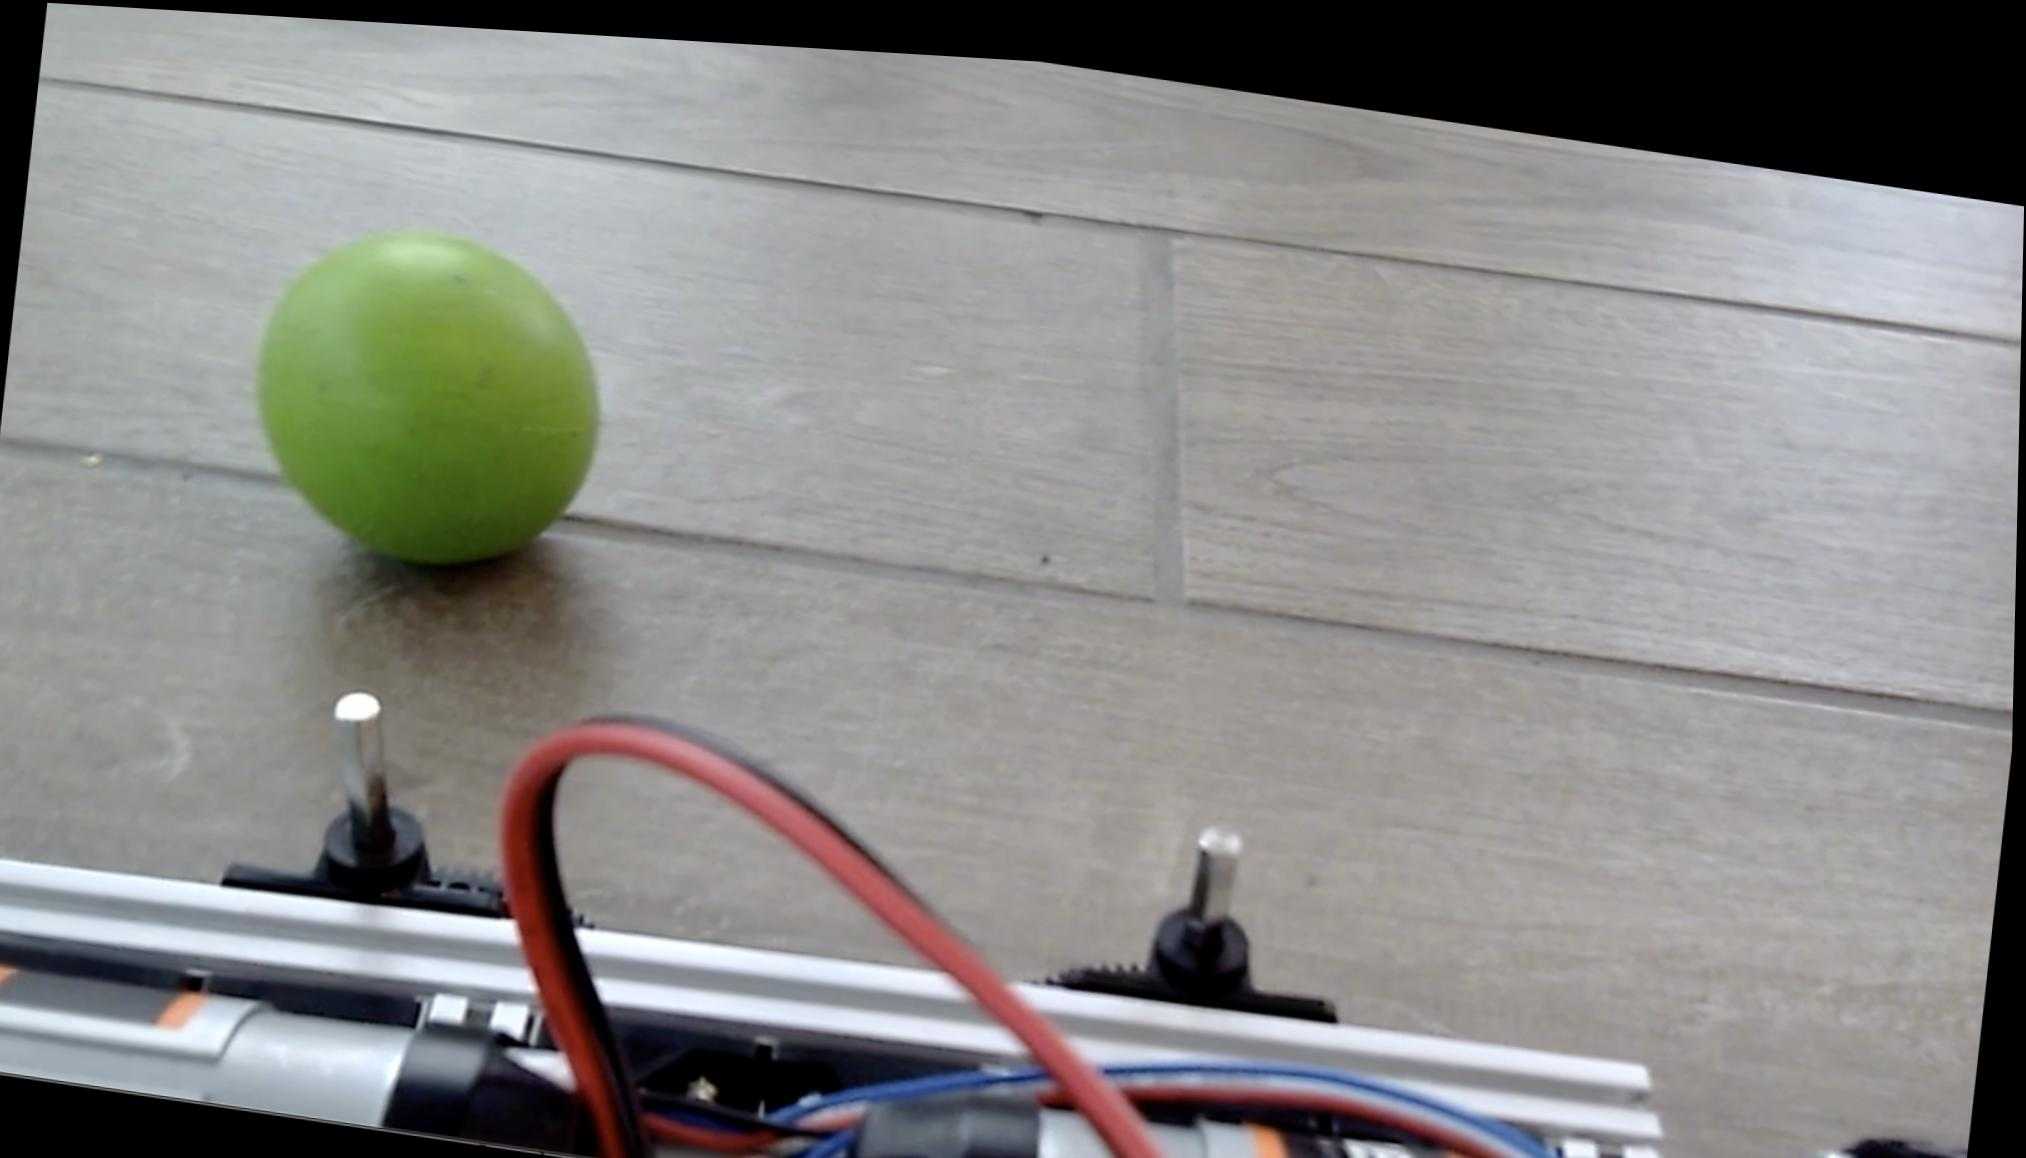greenball: (237, 199, 621, 585)
